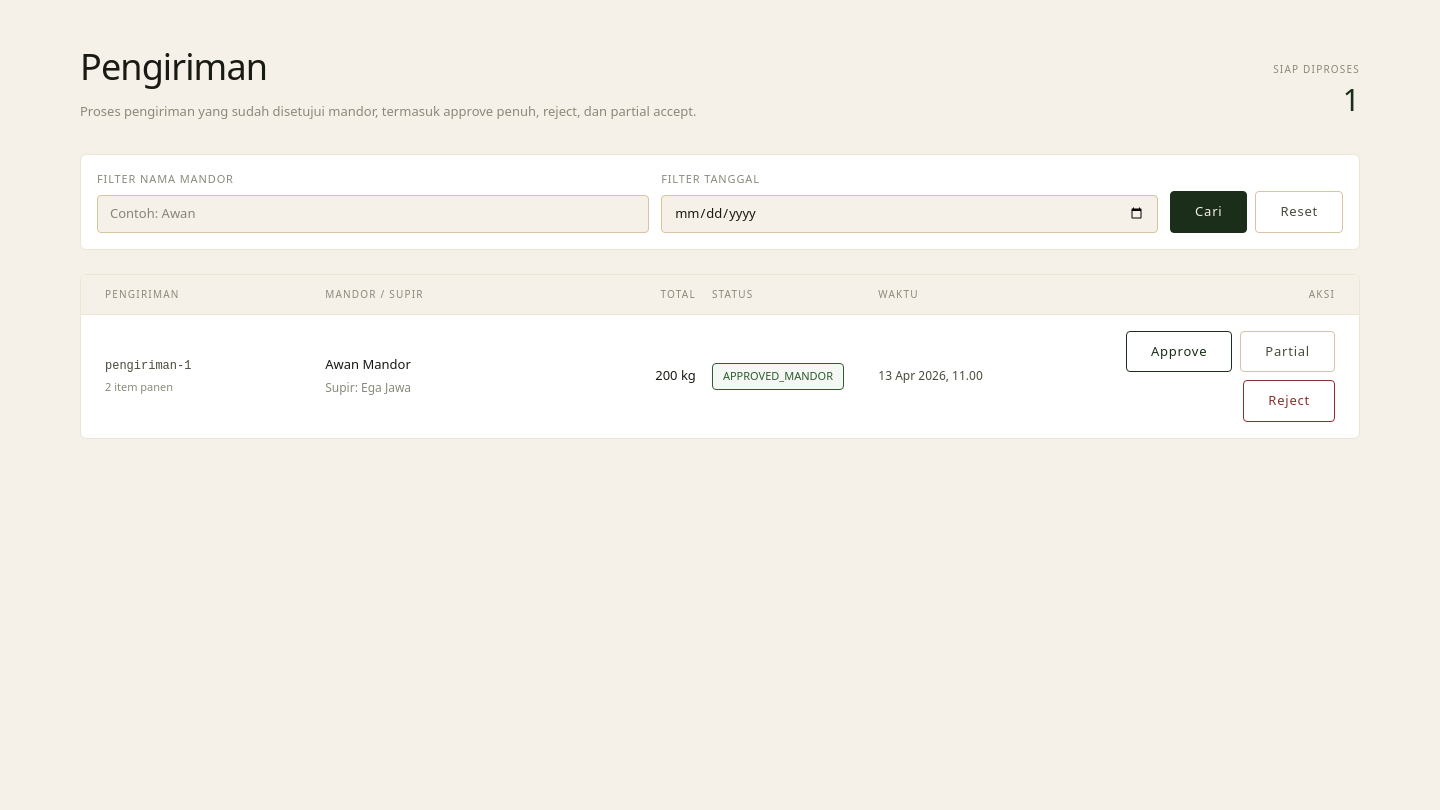
Test: AdminPengirimanPage › opens the reject panel for an admin rejection flow
Click the button "Reject" at (1289, 401), box [1243,380,1335,422]
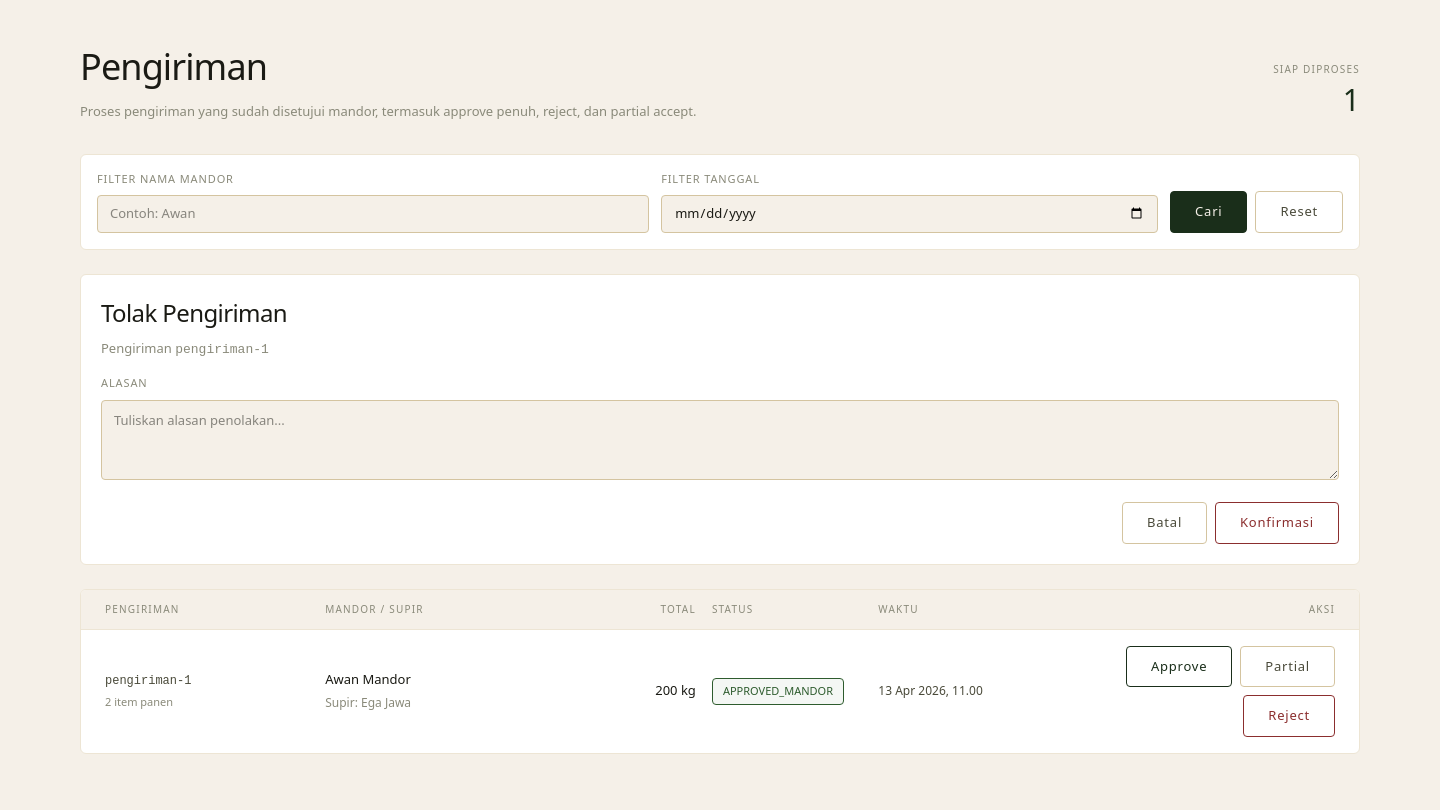
Expected: the heading "Tolak Pengiriman" is shown, [101,296,287,328]
Expected: the text box with placeholder "Tuliskan alasan penolakan..." is shown, [101,400,1339,480]
